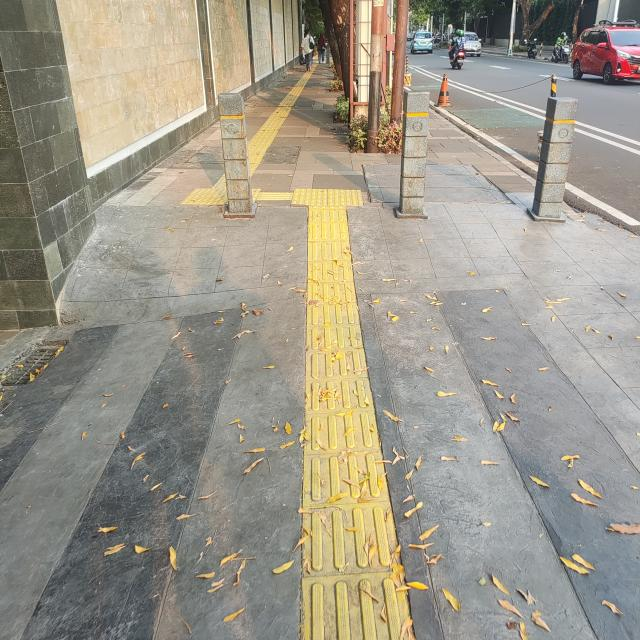lurus: (287, 221, 401, 640)
